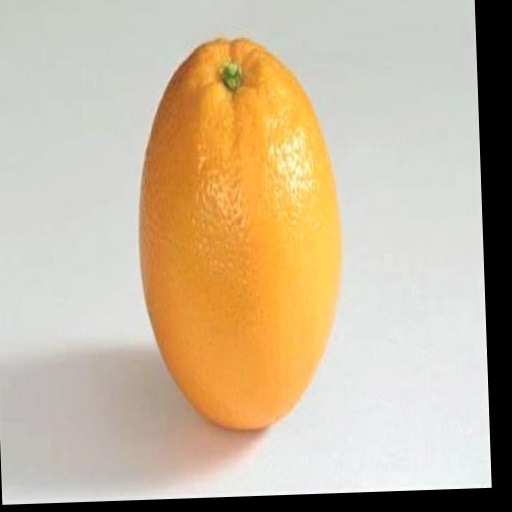fruit: (139, 40, 340, 429)
